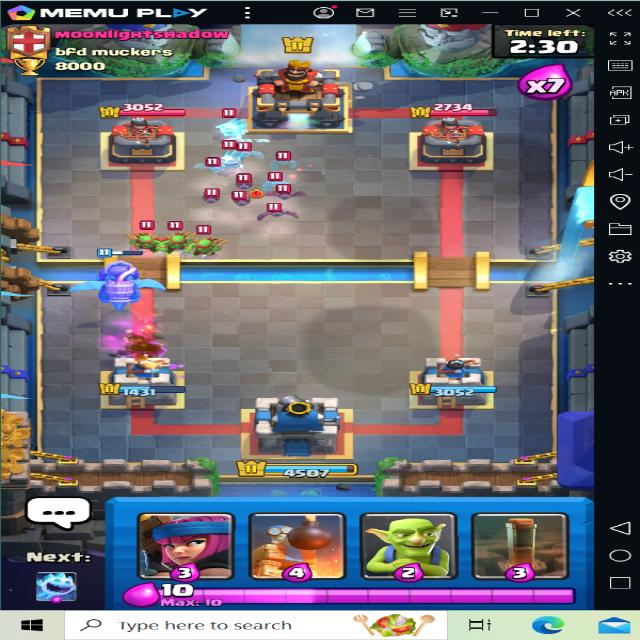bats: (256, 201, 306, 222), (264, 186, 305, 203), (229, 188, 254, 209), (199, 188, 228, 206), (228, 174, 256, 192)
ice-spirit: (207, 142, 258, 176)
spear-goblin: (163, 221, 194, 251), (131, 226, 163, 253), (192, 231, 222, 257)
